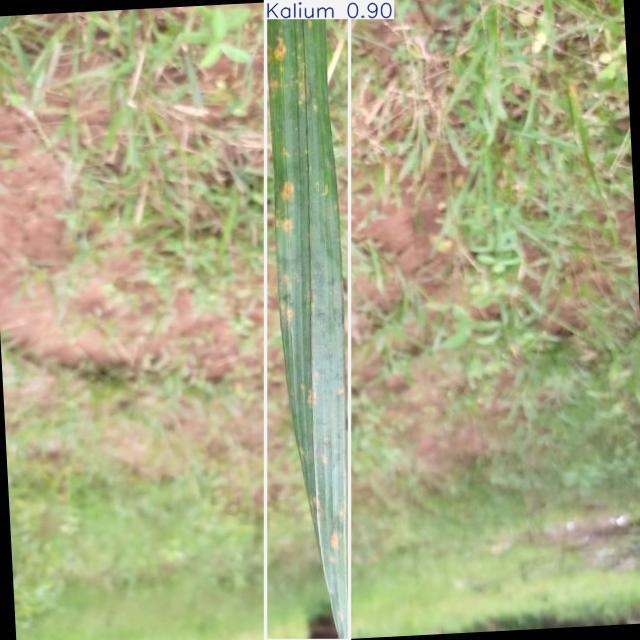Kalium: (265, 0, 350, 640)
